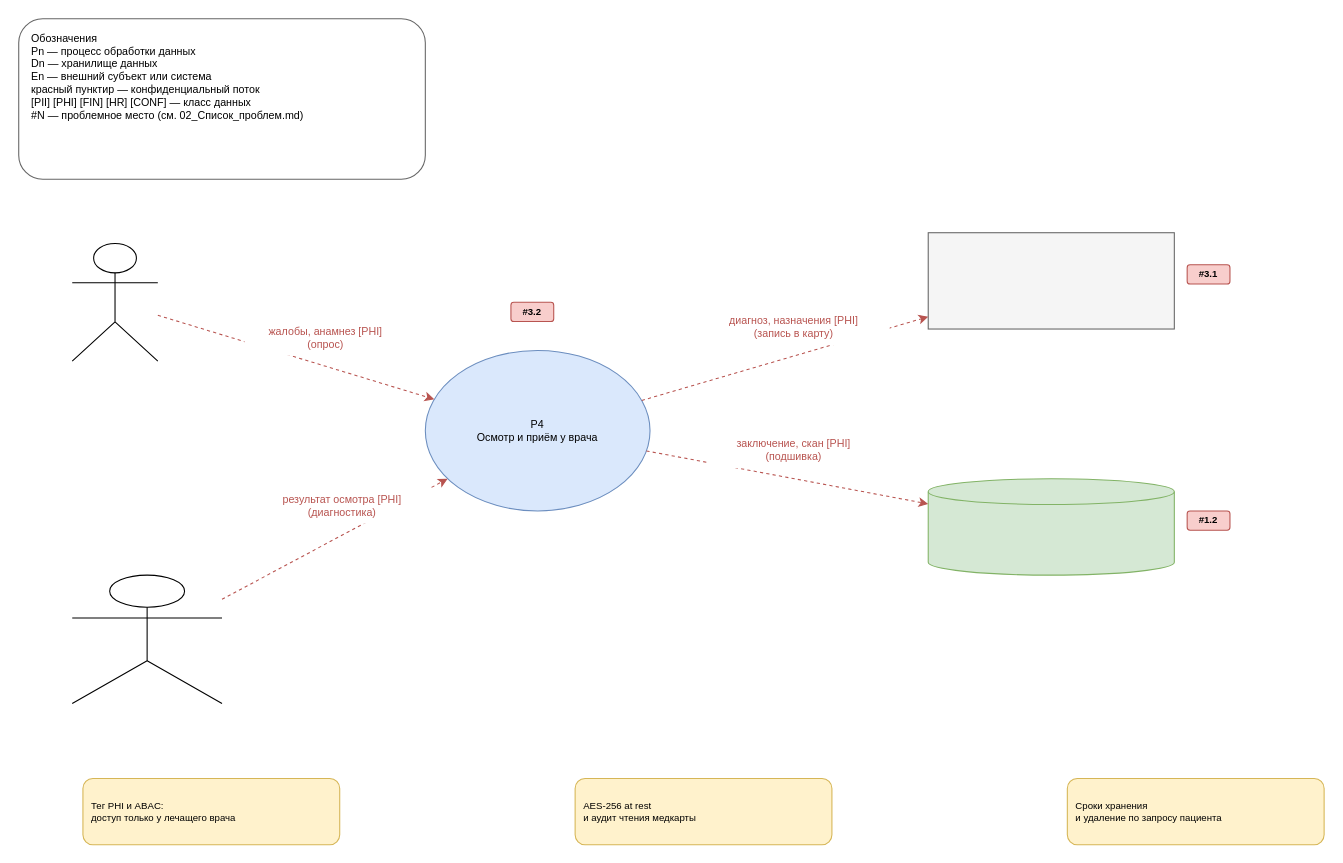
This 1343x863 diagram has some shape labels left out. Here are the shapes that lost their labels. From the top down, the centre of each, then its label:
At point (1050, 280): "D6 Медицинская карта (Excel / сканы)".
At point (114, 301): "E1 Пациент".
At point (1050, 526): "D2 Папка пациента (сканы, заключения)".
At point (146, 639): "E2 Медицинский специалист".
